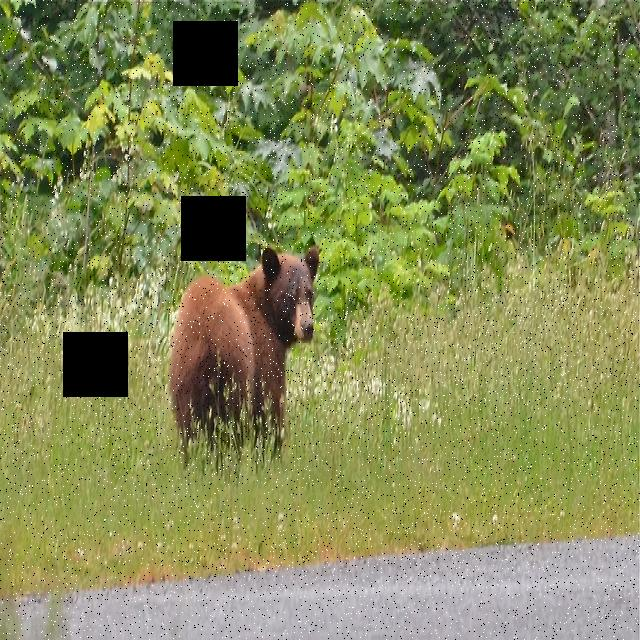Bear: (170, 244, 320, 447)
